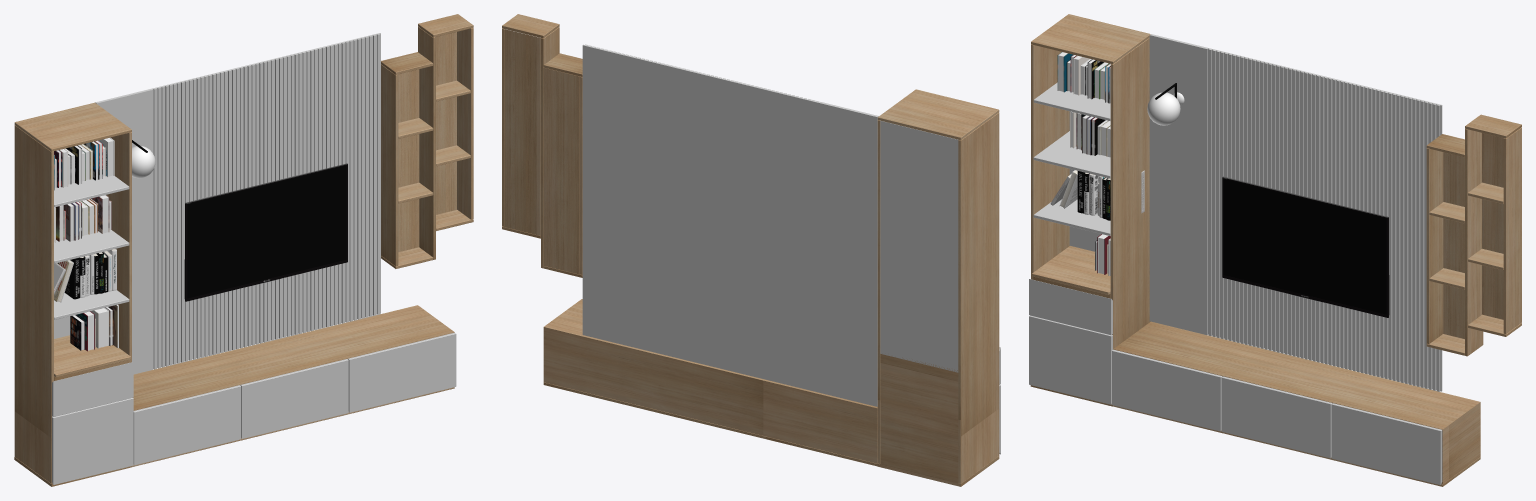
File: living_room_tv_furniture.glb
3 views of the same model, side by side, from view 1: azimuth 30°, elevation 25°; view 2: azimuth 150°, elevation 25°; view 3: azimuth 330°, elevation 25° (orthographic). The views are drawn at different scales.
Parts seen in each view (by area): view 1: Object_63, Object_55, Object_52, Object_54, Object_57, Object_30; view 2: Object_63, Object_55; view 3: Object_63, Object_55, Object_52, Object_54, Object_57, Object_30.
Part boxes in pixels (x1,y1,x2,y2): Object_63: [52, 33, 456, 484]; Object_55: [14, 14, 473, 486]; Object_52: [187, 165, 346, 298]; Object_54: [54, 137, 118, 350]; Object_57: [185, 164, 347, 301]; Object_30: [132, 146, 155, 178]; Object_63: [582, 44, 1000, 454]; Object_55: [502, 14, 999, 486]; Object_63: [1029, 34, 1442, 484]; Object_55: [1030, 14, 1521, 486]; Object_52: [1223, 178, 1386, 314]; Object_54: [1058, 52, 1184, 275]; Object_57: [1222, 177, 1388, 317]; Object_30: [1147, 92, 1180, 125].
Size of the model in its own units: 83.15 by 60.47 by 12.6.
Materials: 61 (52 with a texture image).
